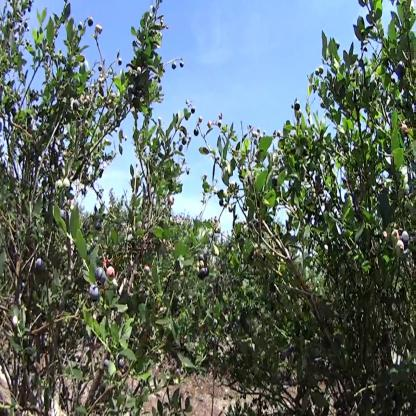intermediate: (106, 265, 116, 284), (391, 228, 401, 244), (396, 241, 405, 257)
mature: (95, 269, 108, 287), (89, 283, 100, 301), (403, 229, 411, 251)
young: (54, 179, 72, 192), (11, 310, 21, 329)
